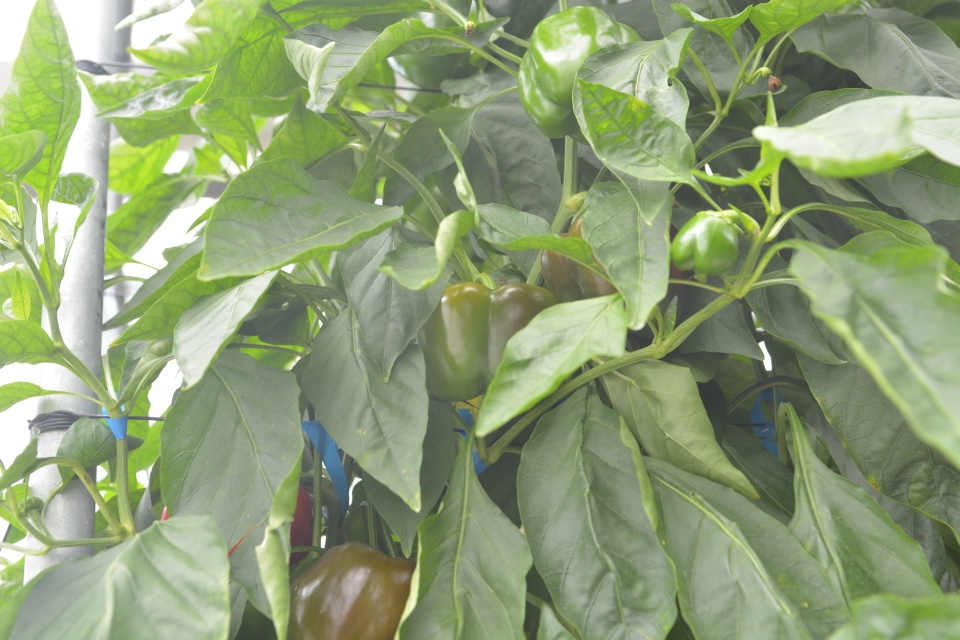fruit: (514, 3, 644, 145), (416, 280, 559, 403), (286, 539, 417, 640), (385, 6, 490, 89), (540, 211, 619, 304), (670, 206, 741, 284)
